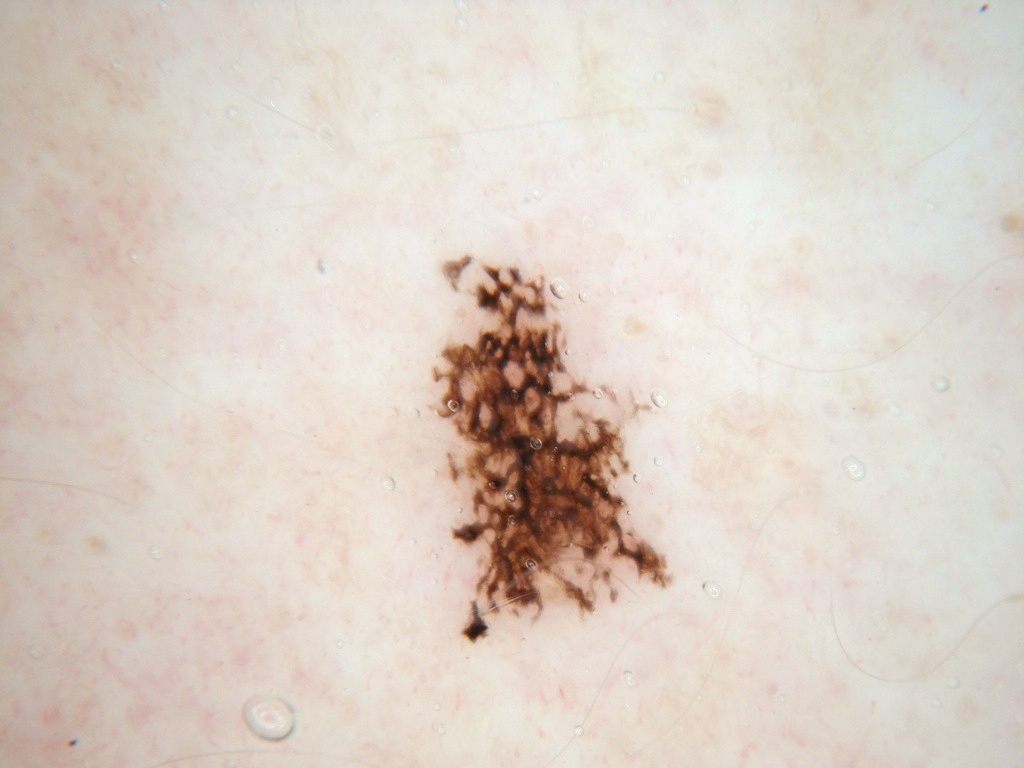Detected Lesion: (430, 237, 683, 656)
